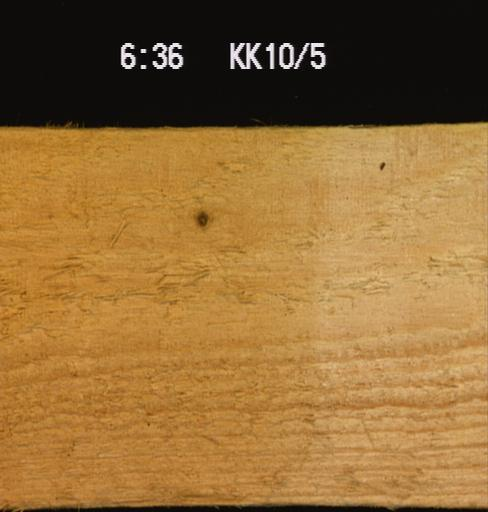small_knot: (192, 203, 211, 232), (373, 154, 388, 173)
